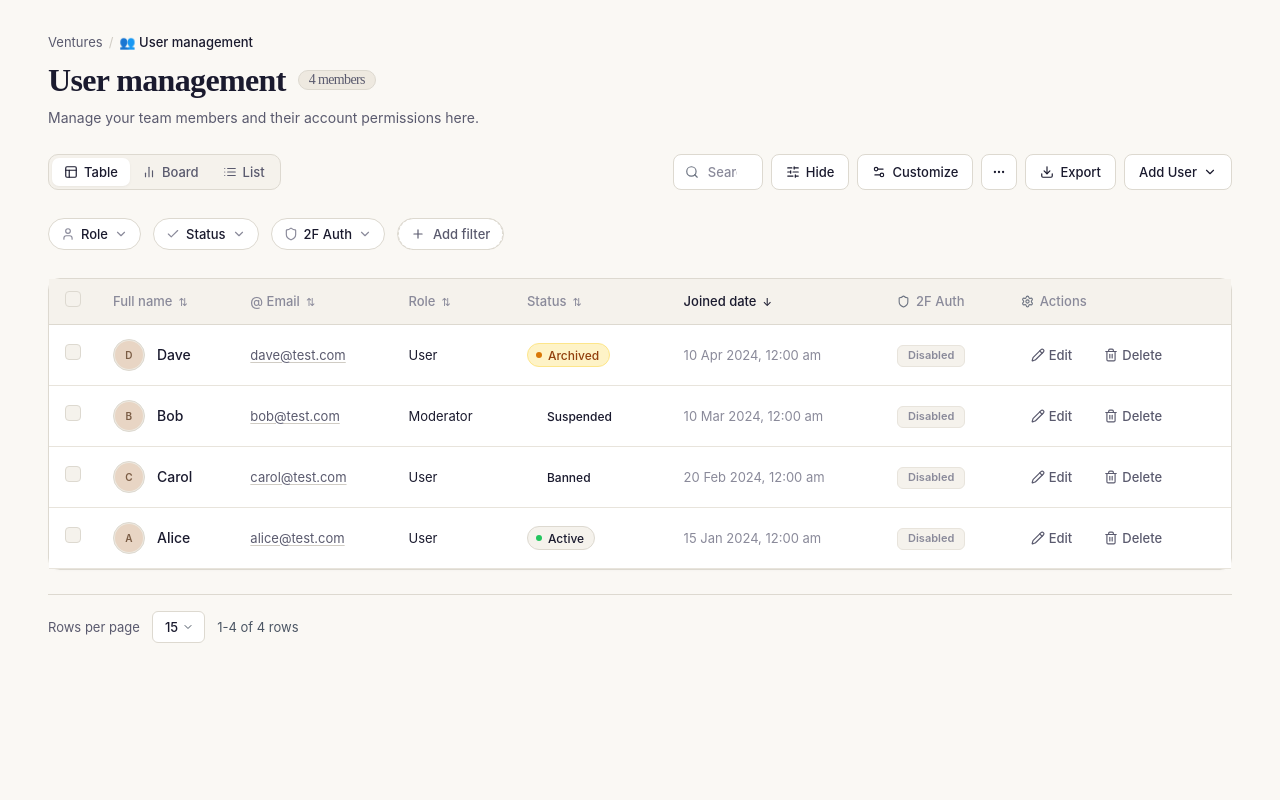
Test: AdminUsersClient — checkbox selection › shows correct count when multiple rows selected
Step 1. Click the checkbox named "select alice" → (73, 536), box 65,528 -> 81,544
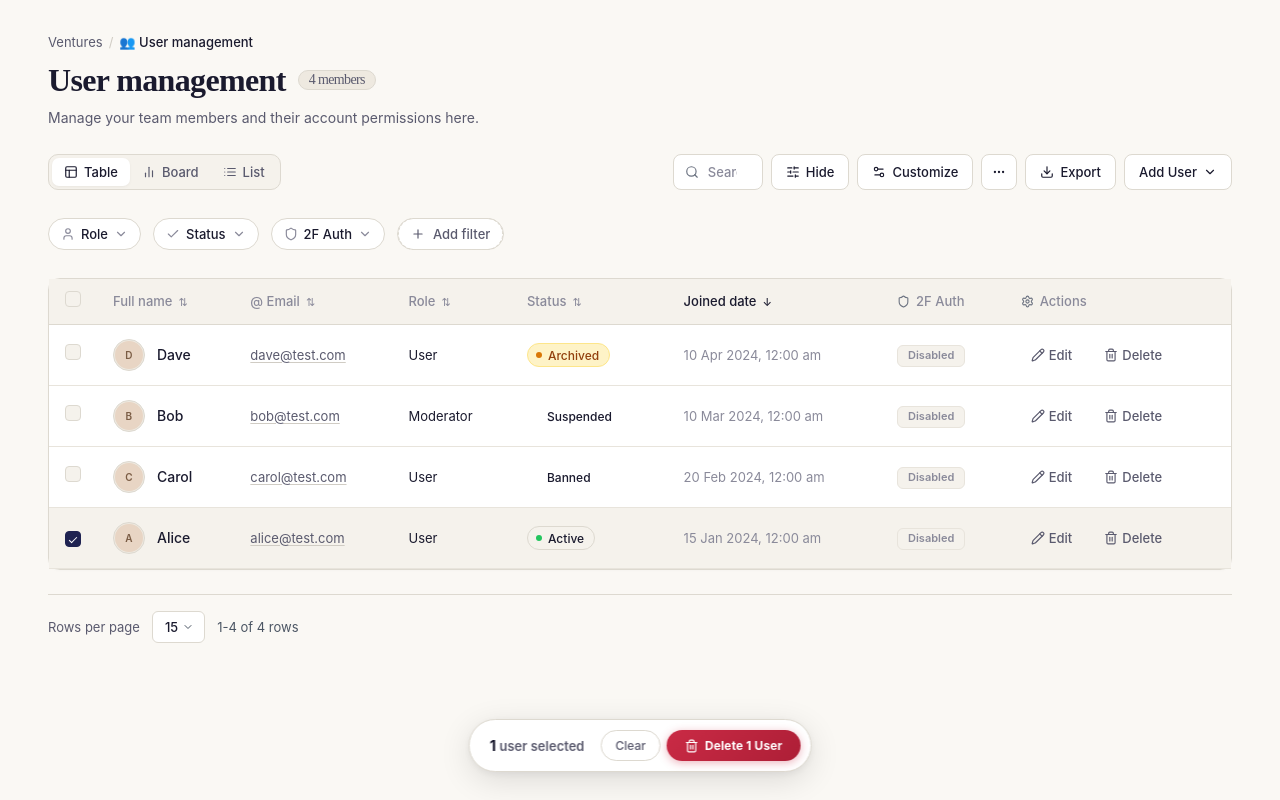
Step 2. Click the checkbox named "select bob" → (73, 414), box 65,406 -> 81,422
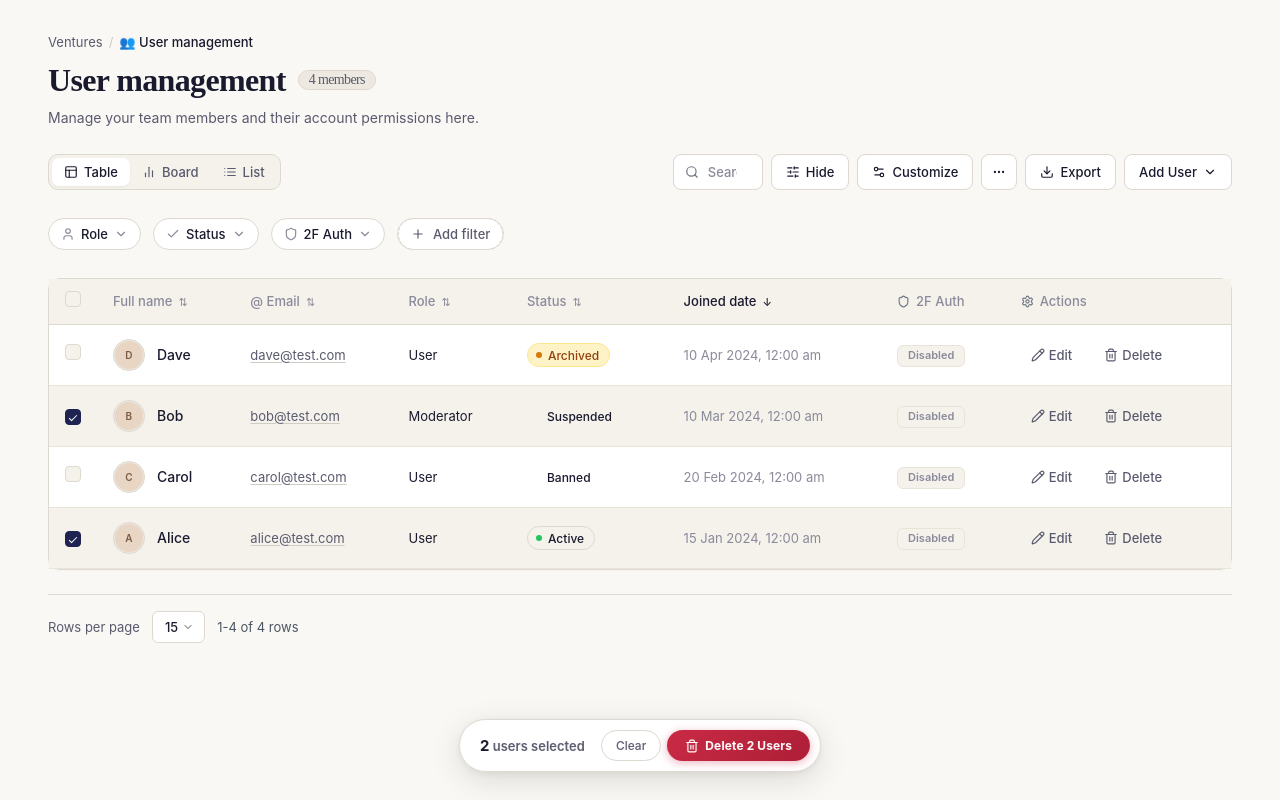
Now the message shows "2", box 480,736 -> 489,754
